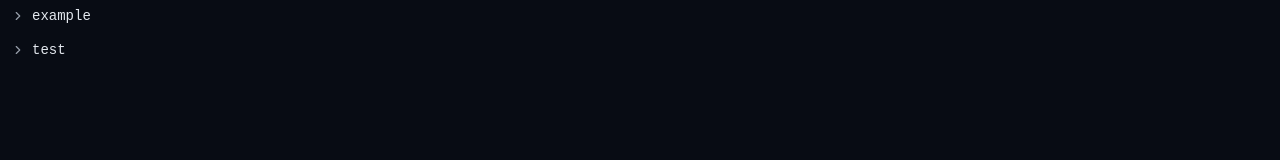
Test: DomainTree — lazy expansion › indents a nested node one step deeper than its parent
Expected: the button "example" is shown, [32,6,1272,26]
Click the 1st button named "展开子域": click(18, 16) [8,6,28,26]
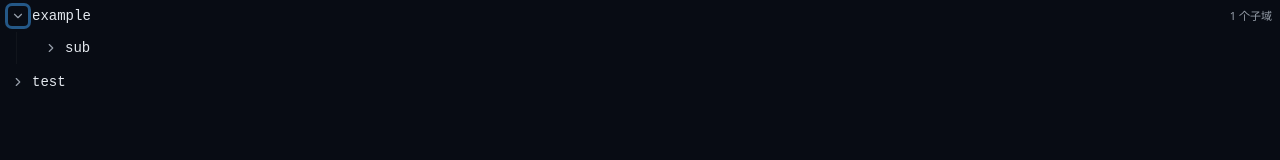
Now the button "sub" is shown, box [65,38,1272,58]
